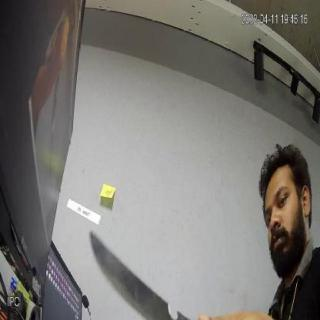knife: (88, 229, 190, 319)
